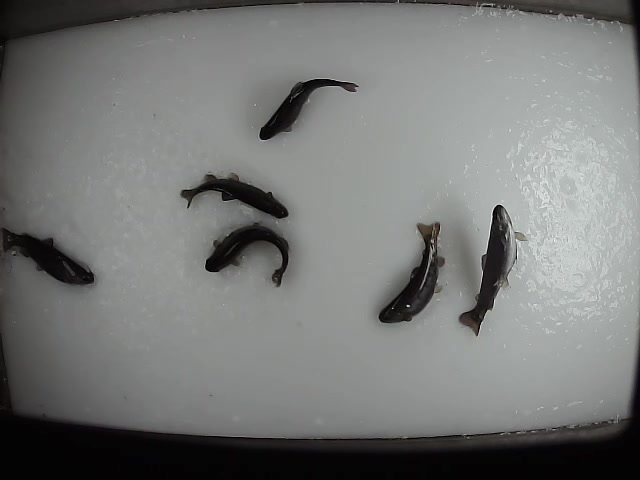Fish: (458, 204, 527, 337), (378, 222, 445, 324), (259, 79, 359, 141), (205, 223, 289, 287), (3, 228, 94, 284), (181, 172, 288, 219)
